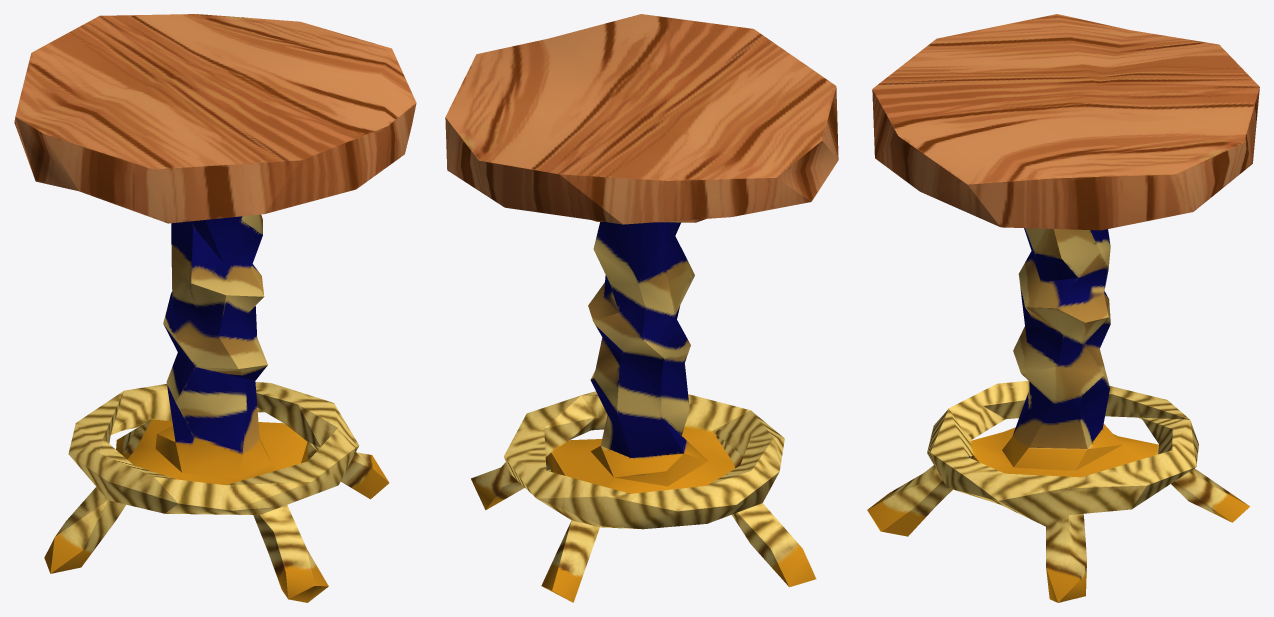
The model's file is harbor-rope-stool.glb.
3 renders of one model, left to right at view 1: azimuth 30°, elevation 25°; view 2: azimuth 150°, elevation 25°; view 3: azimuth 270°, elevation 25°, orthographic. The views are drawn at different scales.
Visible parts, largest first — view 1: geometry_0; view 2: geometry_0; view 3: geometry_0.
Boxes of the visible parts, x1,y1,x2,y2 form: geometry_0: (14, 14, 416, 602); geometry_0: (445, 14, 838, 602); geometry_0: (867, 14, 1259, 602).
Bounding box in the file's own units: 0.8083 × 1 × 0.8091.
1 material, 1 textured.
